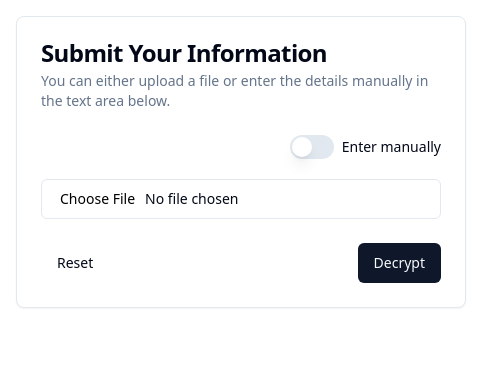
Test case: FileUploader › should show an error message if no file is selected
The width and height of the screenshot is (483, 375).
Click the button "Decrypt": (399, 263) [358,243,441,283]
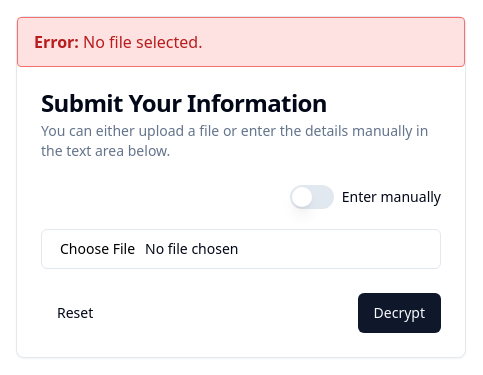
Expected: the text "No file selected." is shown, [83,31,202,53]
